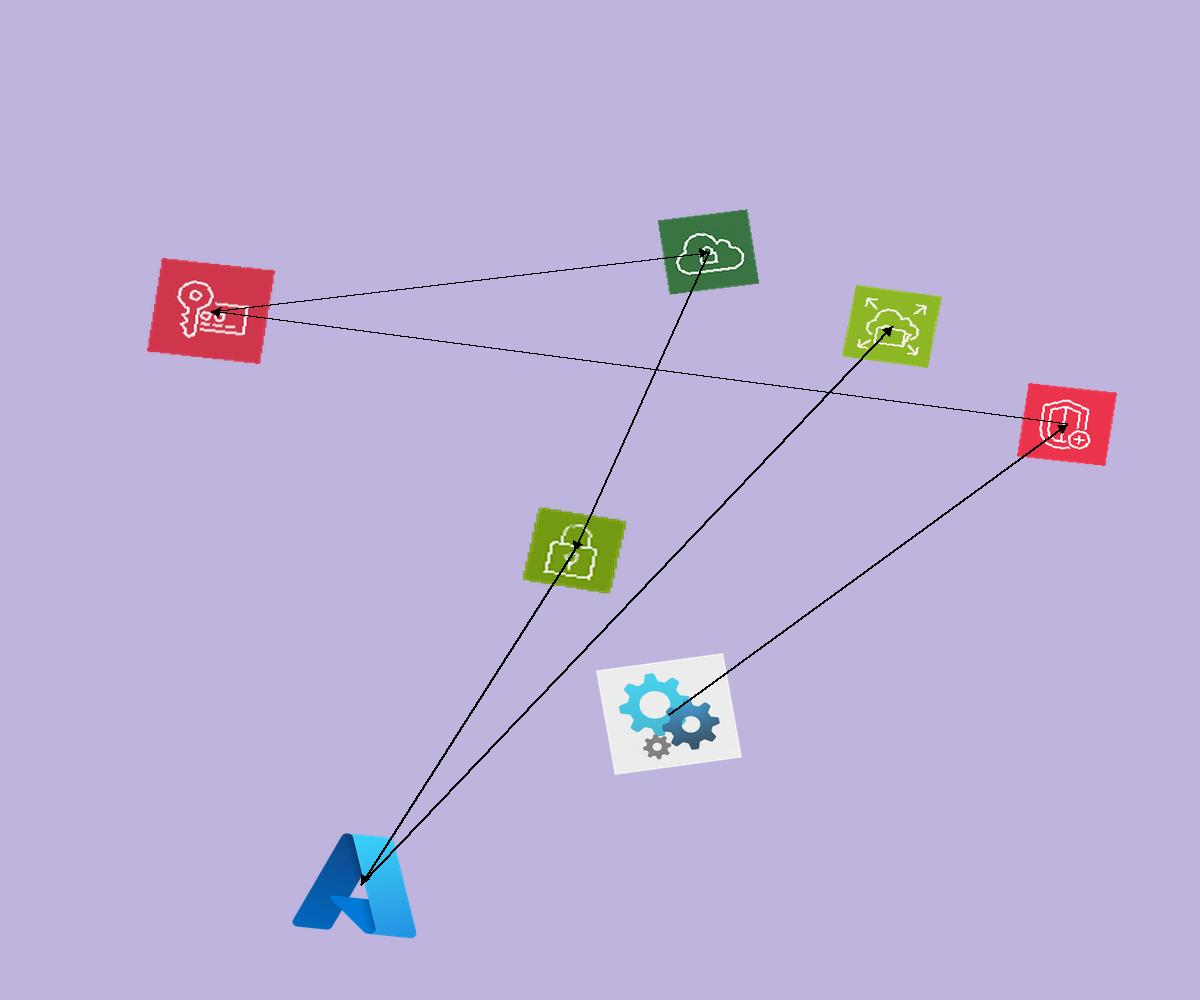AWS-EFS: (842, 285, 942, 368)
AWS-Key-Management-Service: (147, 258, 275, 364)
AWS-Private_vpc: (657, 209, 760, 295)
AWS-Public-subnet: (521, 506, 628, 595)
AWS-Shield: (1017, 383, 1117, 466)
Azure_api: (596, 653, 742, 775)
Azure_services: (285, 821, 437, 947)
